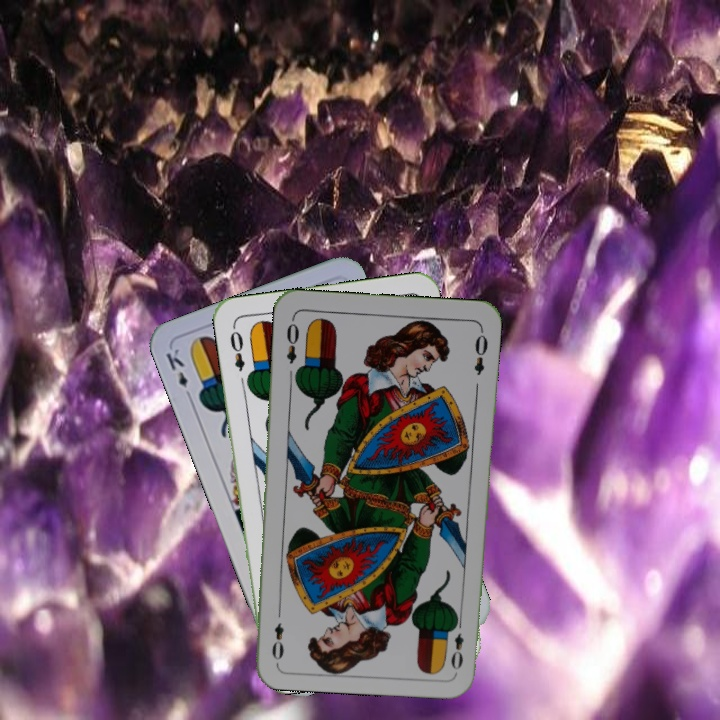EK: (161, 344, 195, 403)
EO: (447, 614, 467, 673), (225, 322, 247, 374), (282, 314, 301, 366)
